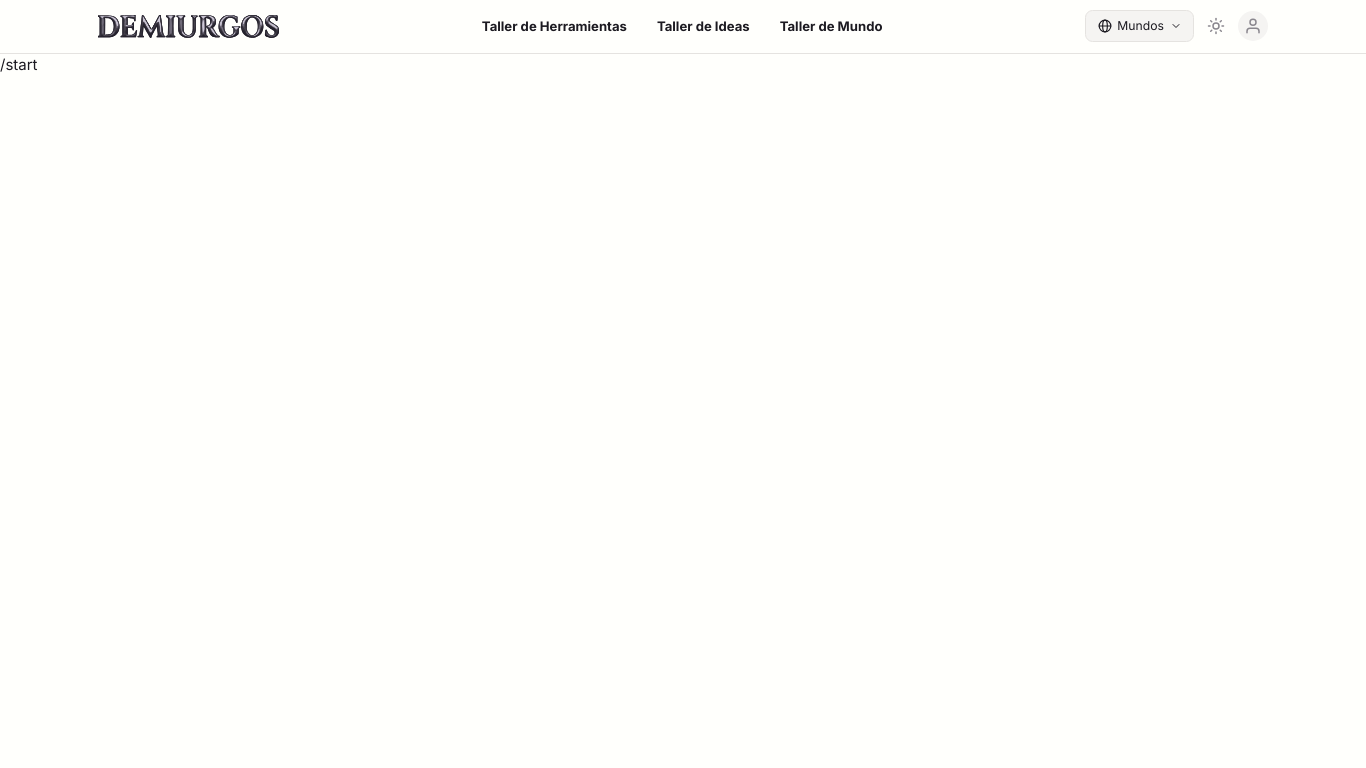
Scenario: Navbar system-control zone › renders both system-control buttons when an active session exists
Click the button named "Perfil": (1253, 26) [1238,11,1268,41]
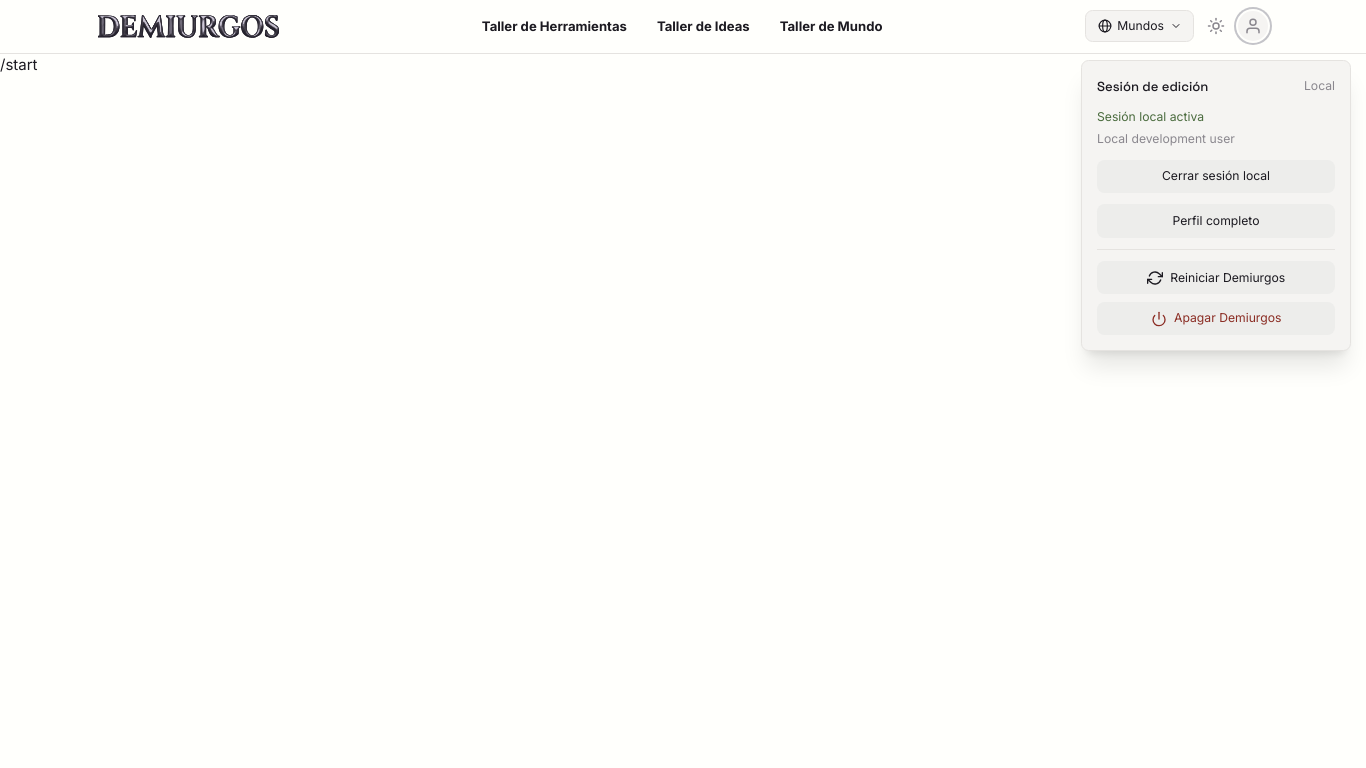
Expected: the button "Reiniciar Demiurgos" is shown, [1097,261,1335,294]
Expected: the button "Apagar Demiurgos" is shown, [1097,302,1335,335]
